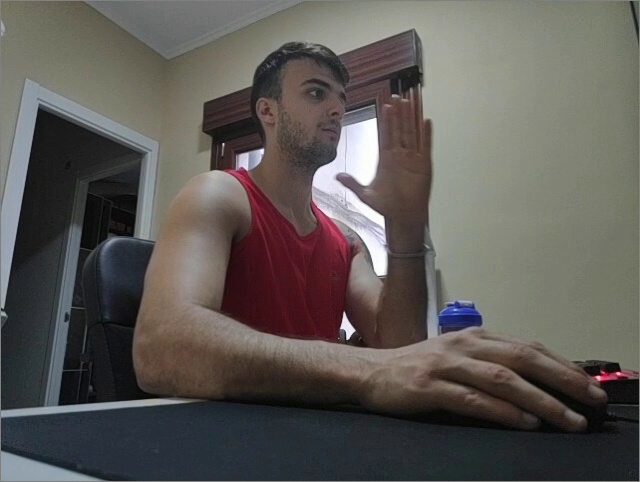Palm: (335, 93, 439, 246)
